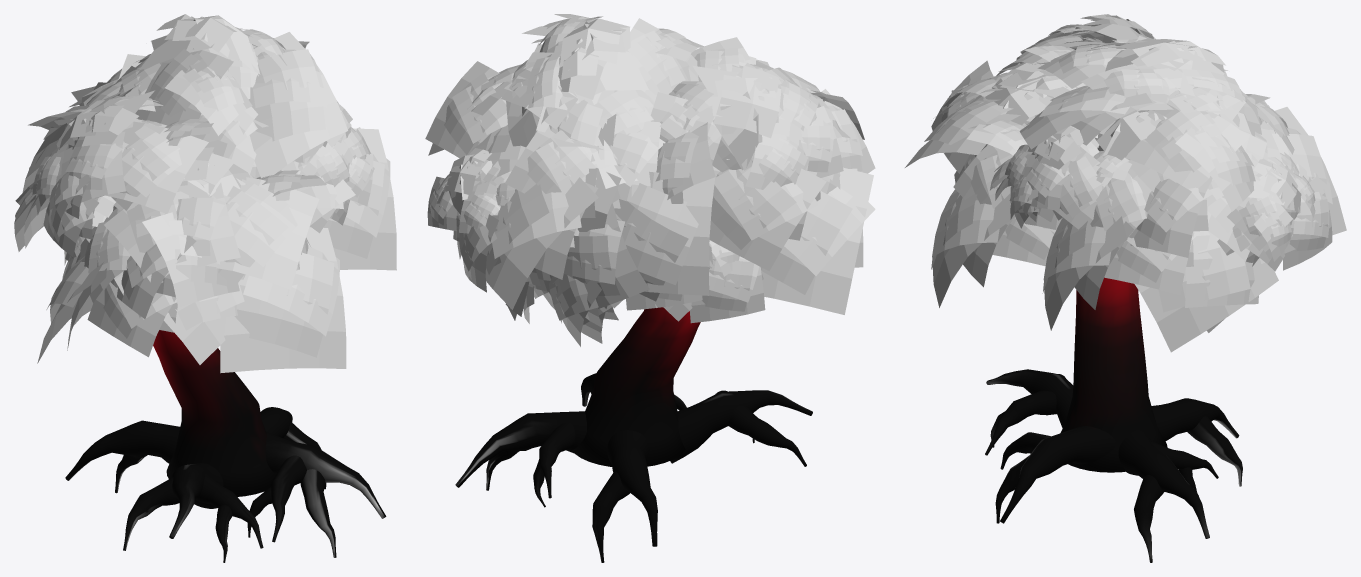
Rendered from Tree-1.fbx.
The picture shows the model from 3 angles, left to right: view 1: azimuth 30°, elevation 25°; view 2: azimuth 150°, elevation 25°; view 3: azimuth 270°, elevation 25°; orthographic projection. The views are drawn at different scales.
Visible parts, largest first — view 1: Tree_trunk2, Tree_Leaves1.010, Tree_Leaves1.007, Tree_Leaves1.006, Tree_Leaves1.009, Tree_Leaves1.008, Tree_Leaves1.001, Tree_Leaves1, Tree_Leaves1.003; view 2: Tree_trunk2, Tree_Leaves1.009, Tree_Leaves1.003, Tree_Leaves1, Tree_Leaves1.006, Tree_Leaves1.010, Tree_Leaves1.005, Tree_Leaves1.002, Tree_Leaves1.008, Tree_Leaves1.004, Tree_Leaves1.007; view 3: Tree_trunk2, Tree_Leaves1.008, Tree_Leaves1.006, Tree_Leaves1.007, Tree_Leaves1.003, Tree_Leaves1.001, Tree_Leaves1.005, Tree_Leaves1, Tree_Leaves1.010, Tree_Leaves1.009.
Part boxes in pixels (x1=…): Tree_trunk2: x1=65, y1=330, x2=386, y2=562; Tree_Leaves1.010: x1=37, y1=140, x2=326, y2=363; Tree_Leaves1.007: x1=86, y1=147, x2=346, y2=373; Tree_Leaves1.006: x1=83, y1=14, x2=347, y2=178; Tree_Leaves1.009: x1=14, y1=84, x2=213, y2=256; Tree_Leaves1.008: x1=118, y1=54, x2=396, y2=270; Tree_Leaves1.001: x1=259, y1=103, x2=374, y2=233; Tree_Leaves1: x1=22, y1=66, x2=137, y2=192; Tree_Leaves1.003: x1=69, y1=28, x2=309, y2=127; Tree_trunk2: x1=455, y1=307, x2=812, y2=562; Tree_Leaves1.009: x1=650, y1=37, x2=843, y2=271; Tree_Leaves1.003: x1=425, y1=43, x2=665, y2=309; Tree_Leaves1: x1=505, y1=114, x2=715, y2=346; Tree_Leaves1.006: x1=512, y1=14, x2=705, y2=188; Tree_Leaves1.010: x1=756, y1=59, x2=875, y2=314; Tree_Leaves1.005: x1=427, y1=148, x2=515, y2=292; Tree_Leaves1.002: x1=655, y1=240, x2=765, y2=323; Tree_Leaves1.008: x1=428, y1=124, x2=603, y2=182; Tree_Leaves1.004: x1=611, y1=293, x2=702, y2=310; Tree_Leaves1.007: x1=726, y1=90, x2=864, y2=159; Tree_trunk2: x1=985, y1=277, x2=1242, y2=562; Tree_Leaves1.008: x1=1042, y1=94, x2=1282, y2=330; Tree_Leaves1.006: x1=1019, y1=38, x2=1269, y2=149; Tree_Leaves1.007: x1=931, y1=58, x2=1086, y2=307; Tree_Leaves1.003: x1=1091, y1=72, x2=1346, y2=263; Tree_Leaves1.001: x1=990, y1=126, x2=1131, y2=229; Tree_Leaves1.005: x1=1227, y1=152, x2=1332, y2=271; Tree_Leaves1: x1=1134, y1=70, x2=1278, y2=352; Tree_Leaves1.010: x1=905, y1=61, x2=1078, y2=167; Tree_Leaves1.009: x1=996, y1=14, x2=1155, y2=83.
Bounding box in the file's own units: 2497 × 3209 × 2741.
